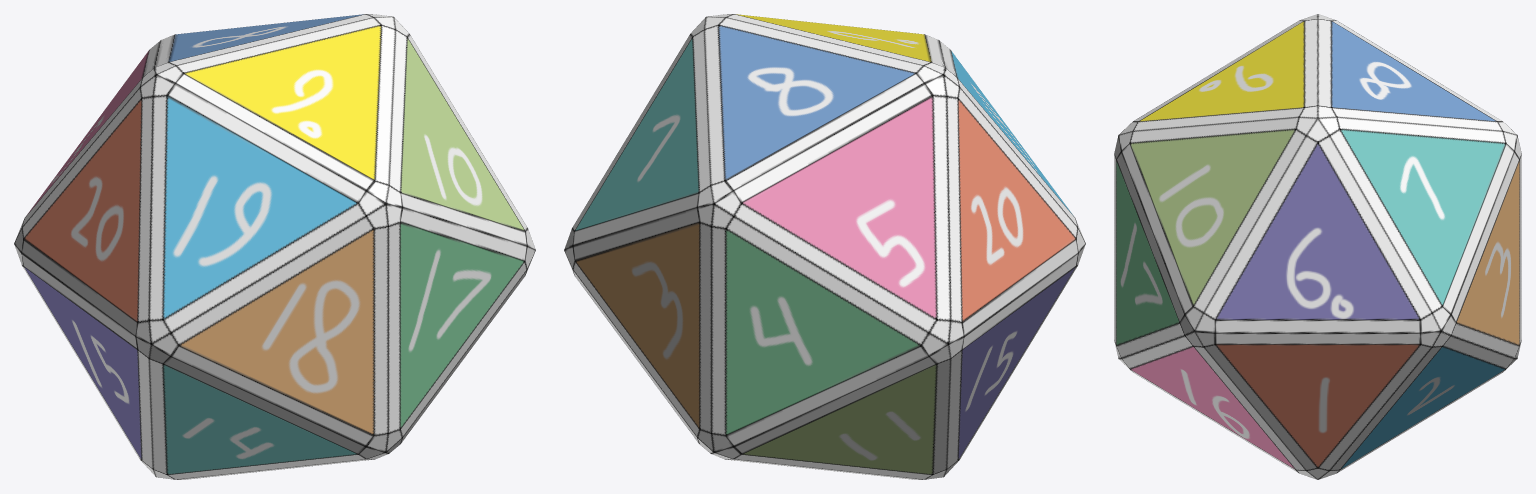
The picture shows the model from 3 angles, left to right: view 1: azimuth 30°, elevation 25°; view 2: azimuth 150°, elevation 25°; view 3: azimuth 270°, elevation 25°; orthographic projection. The views are drawn at different scales.
Visible parts, largest first — view 1: icosohedron; view 2: icosohedron; view 3: icosohedron.
Part boxes in pixels (x1,y1,x2,y2): icosohedron: [14, 14, 535, 479]; icosohedron: [564, 14, 1085, 479]; icosohedron: [1114, 14, 1521, 479].
Bounding box in the file's own units: 1.68 × 1.68 × 1.68.
Materials: 1 (1 with a texture image).
